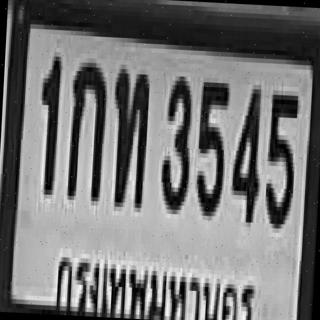A01: (66, 57, 107, 197)
A23: (109, 64, 149, 203)
N01: (36, 51, 60, 190)
N03: (158, 71, 192, 210)
N04: (229, 82, 262, 221)
N05: (263, 90, 298, 224), (194, 78, 228, 212)
P04: (51, 235, 256, 320)
